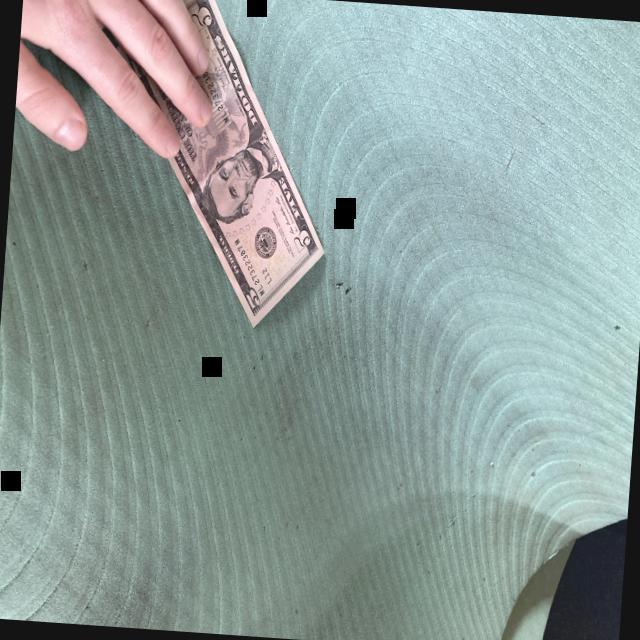five: (114, 0, 324, 328)
